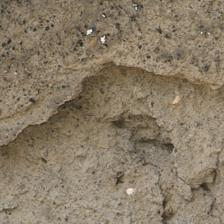Crack: (2, 28, 222, 124)
